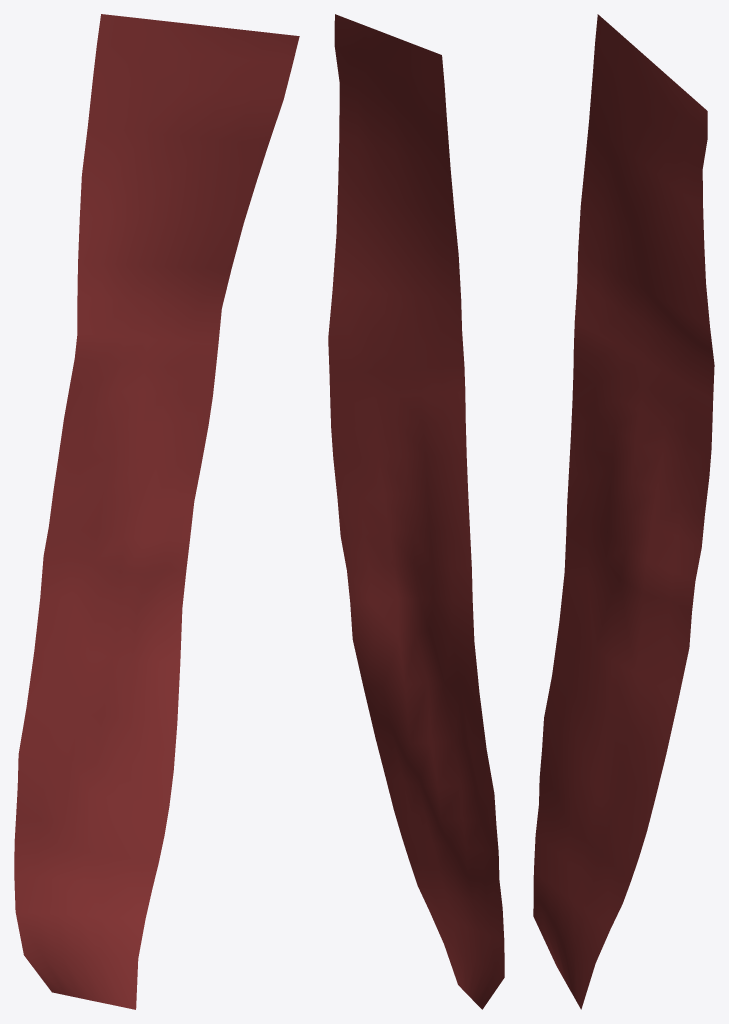
File: medial-intermuscular-septum-of-arm-r.glb
3 views of the same model, side by side, from view 1: azimuth 30°, elevation 25°; view 2: azimuth 150°, elevation 25°; view 3: azimuth 330°, elevation 25° (orthographic). The views are drawn at different scales.
Parts seen in each view (by area): view 1: Medial intermuscular septum of arm.r; view 2: Medial intermuscular septum of arm.r; view 3: Medial intermuscular septum of arm.r.
Boxes of the visible parts, <box> form: Medial intermuscular septum of arm.r: <box>14,14,299,1009</box>; Medial intermuscular septum of arm.r: <box>328,14,504,1009</box>; Medial intermuscular septum of arm.r: <box>533,14,714,1009</box>.
Size of the model in its own units: 0.0347 by 0.1416 by 0.0153.
